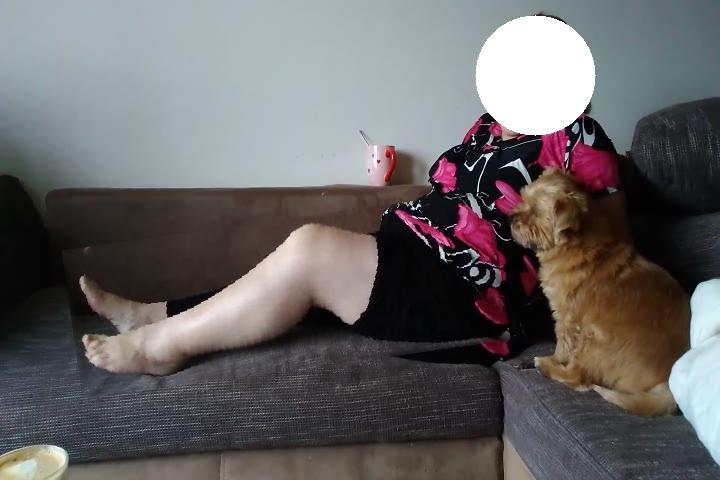lower_body: (67, 205, 507, 386)
